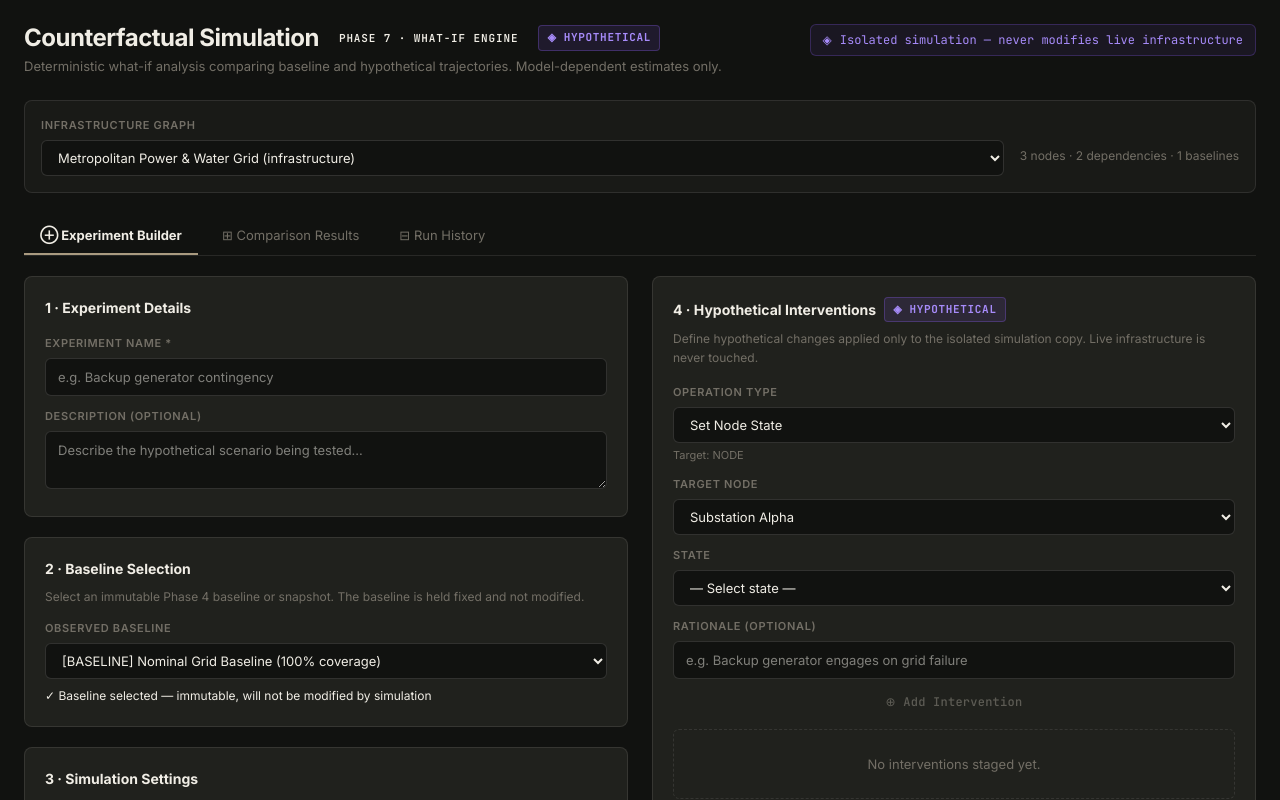
Test: Counterfactual Simulation Page (/app/interventions) › stages hypothetical changes in the intervention builder
The image size is (1280, 800).
Expected: the text "4 · Hypothetical Interventions" is shown, [673,299,876,320]
// Name the experiment
Type "Test Isolation Contingency" into the field labelled "Experiment Name *" at (326, 377), box [45,358,607,396]
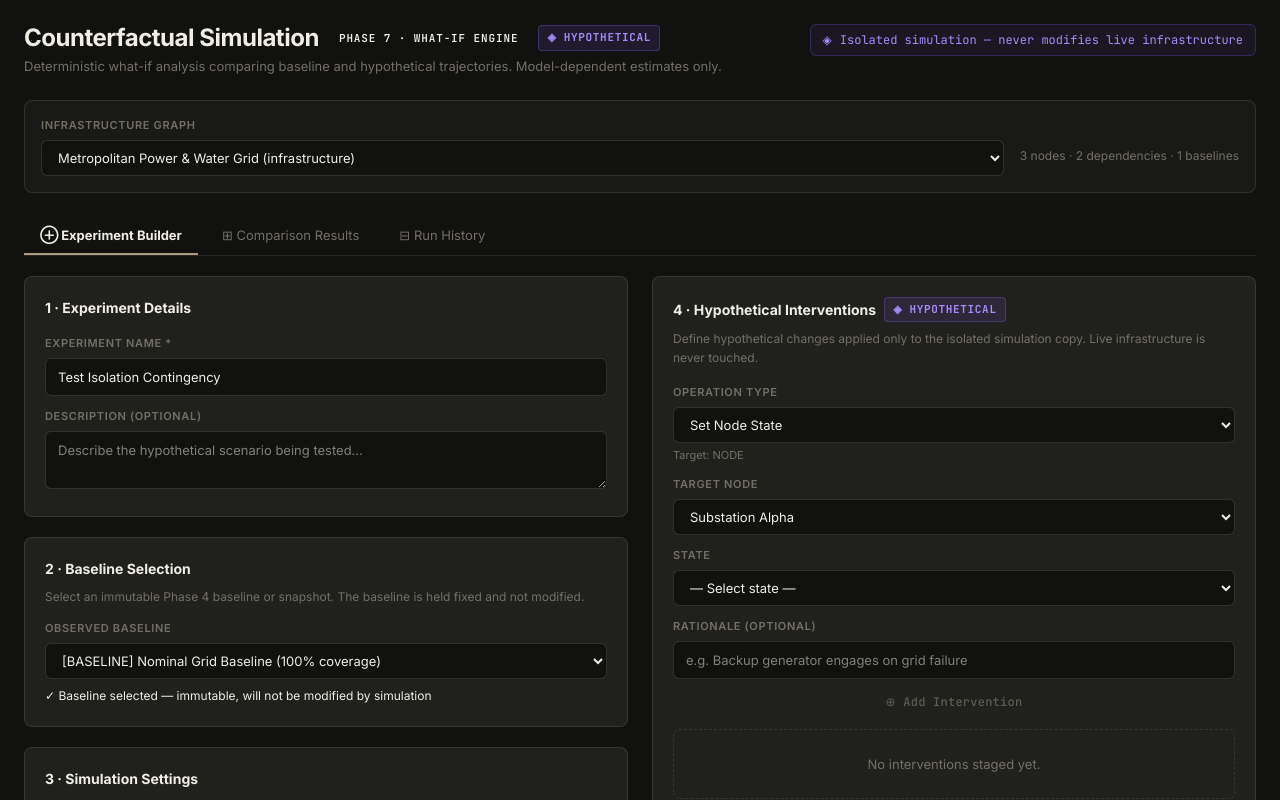
// Target node is already set to first node or select target
Select "Substation Alpha" in the dropdown labelled "Target Node" at (954, 517), box [673,499,1235,535]
// Select state
Select "FAILED" in the dropdown showing "— Select state —" at (954, 588), box [673,570,1235,606]
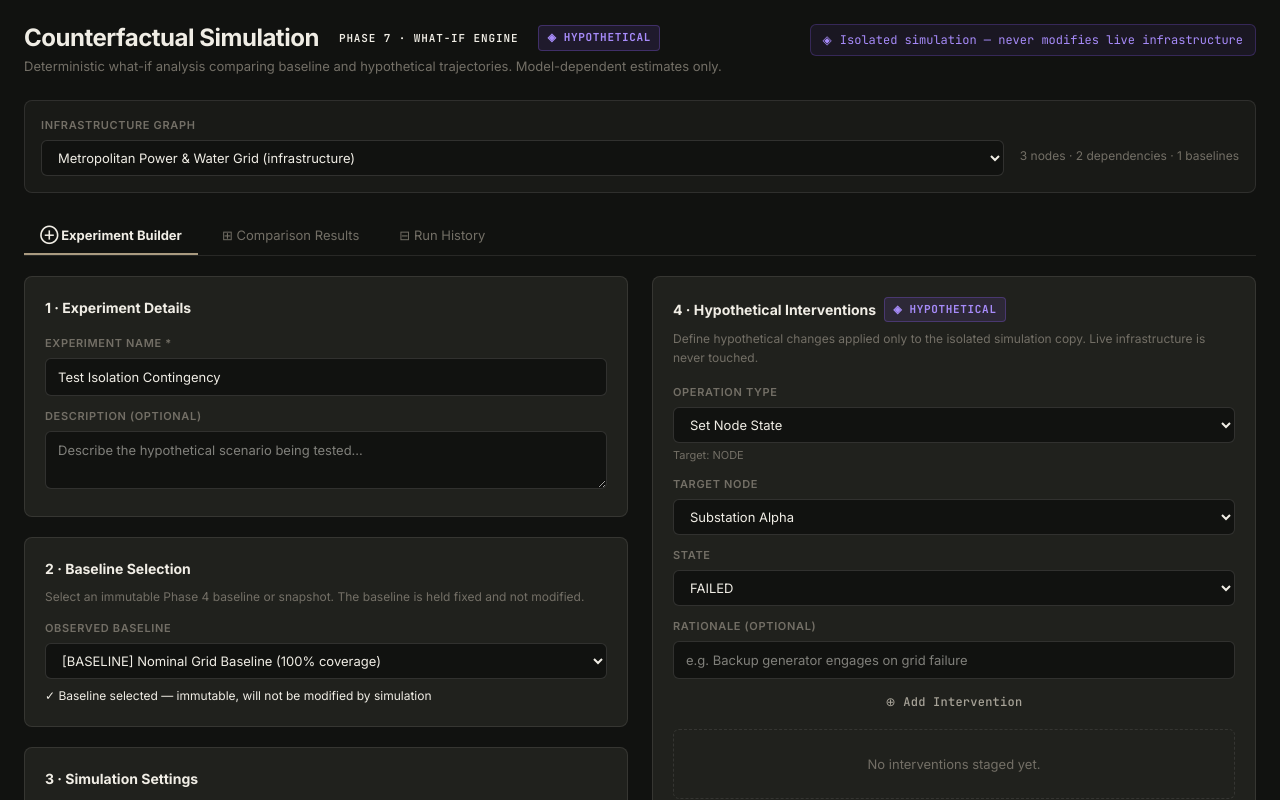
// Enter rationale
Type "Transformer overheating cascade test" into the field with placeholder "e.g. Backup generator engages on grid failure" at (954, 660), box [673,641,1235,679]
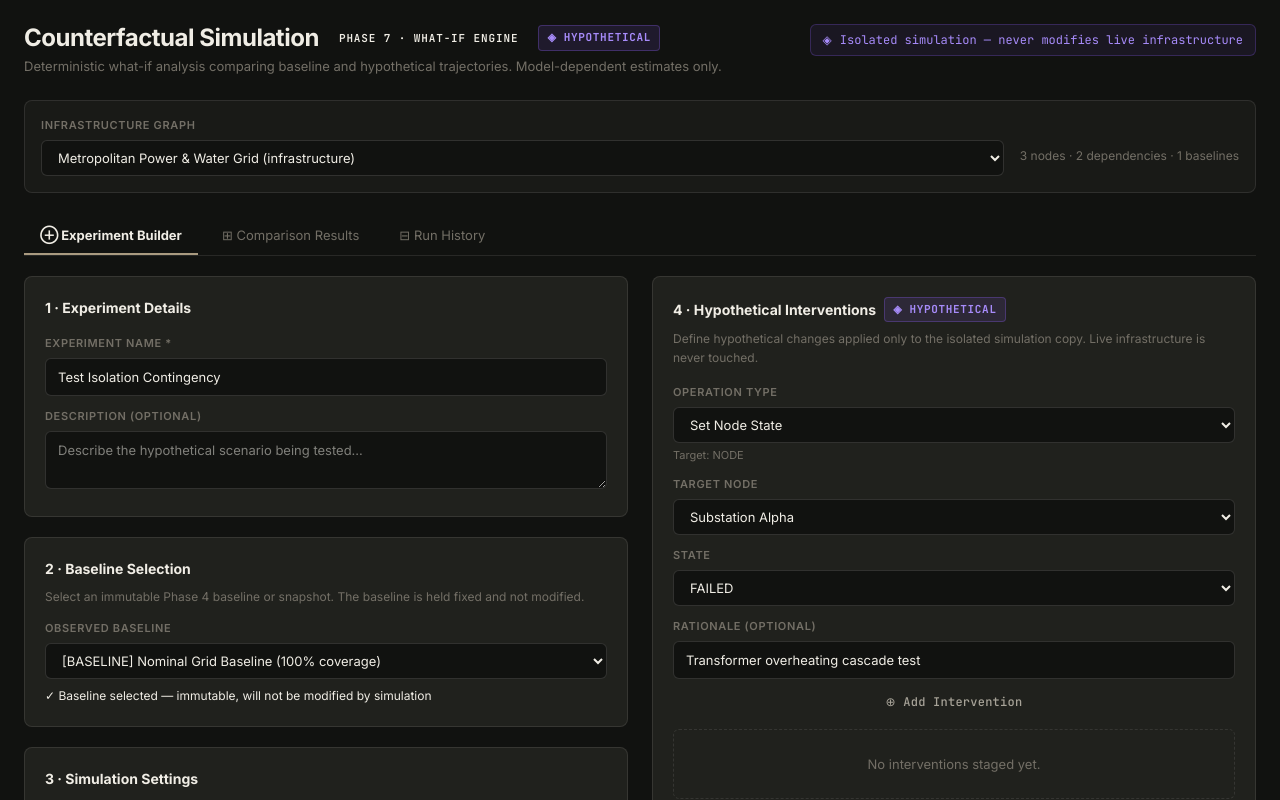
Now the button "⊕ Add Intervention" is enabled
Click the button "⊕ Add Intervention" at (954, 702), box [673,691,1235,713]
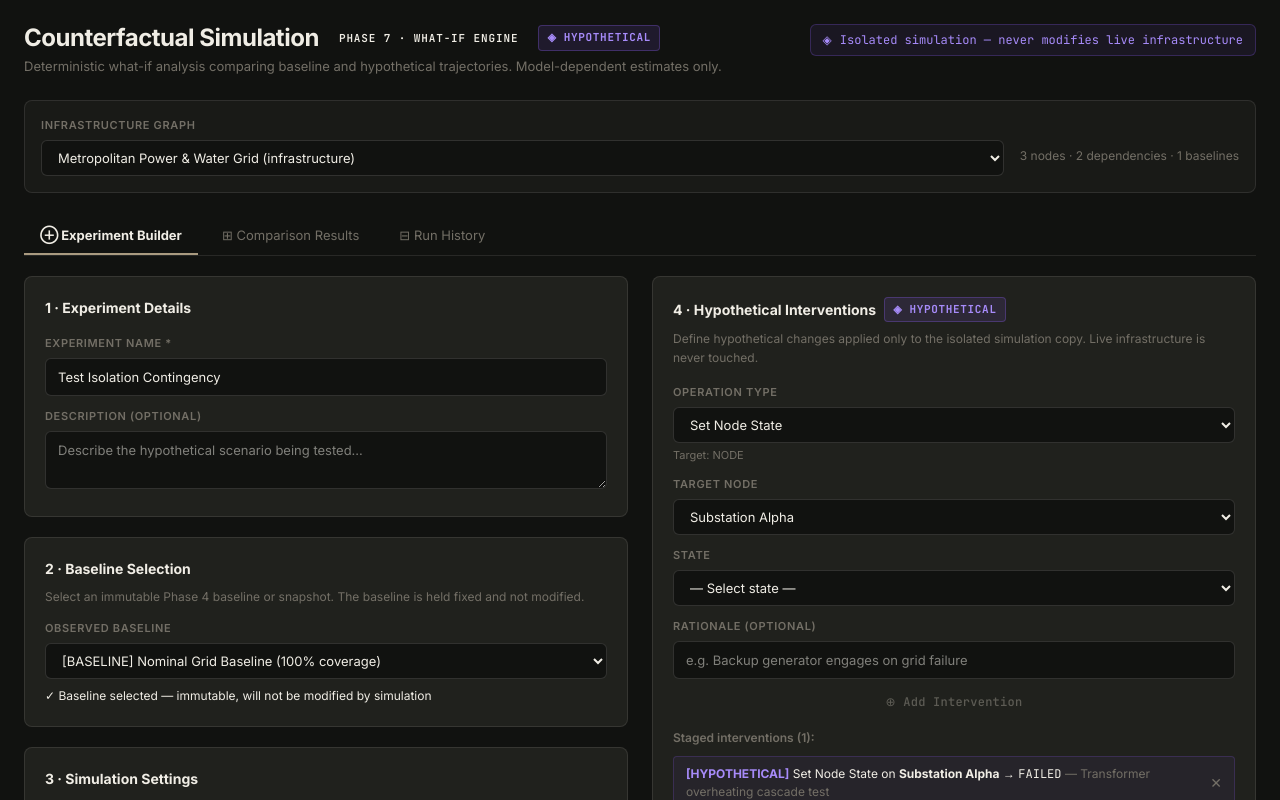
Now the text "— Transformer overheating cascade test" is shown, box [686,766,1150,799]
Now the text "Staged interventions (1):" is shown, box [673,730,814,745]
